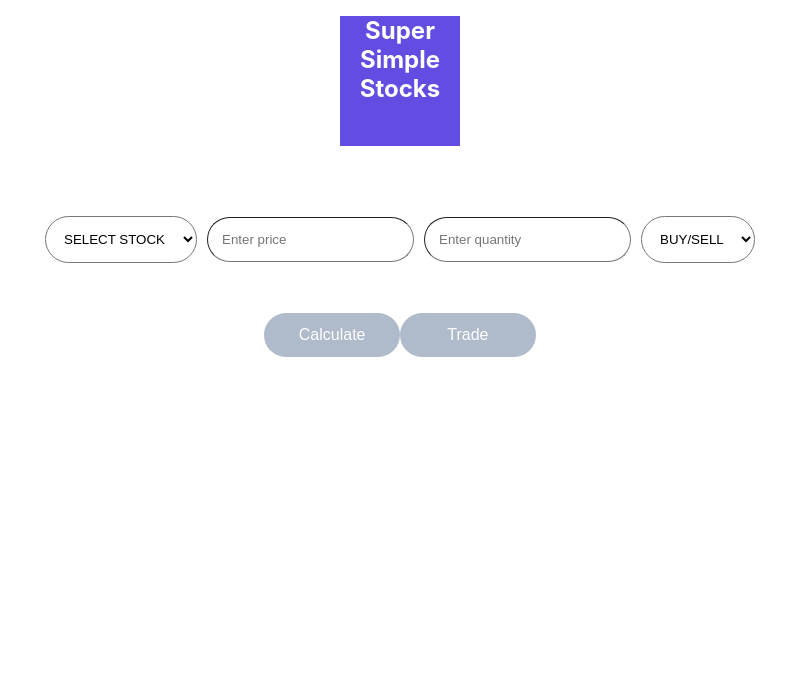
Test: App › trades and populates data
Expected: the button with test id "button-trade" is disabled, [400,313,536,357]
Select "TEA" in the dropdown with test id "stock-list" at (121, 239), box [45,216,197,263]
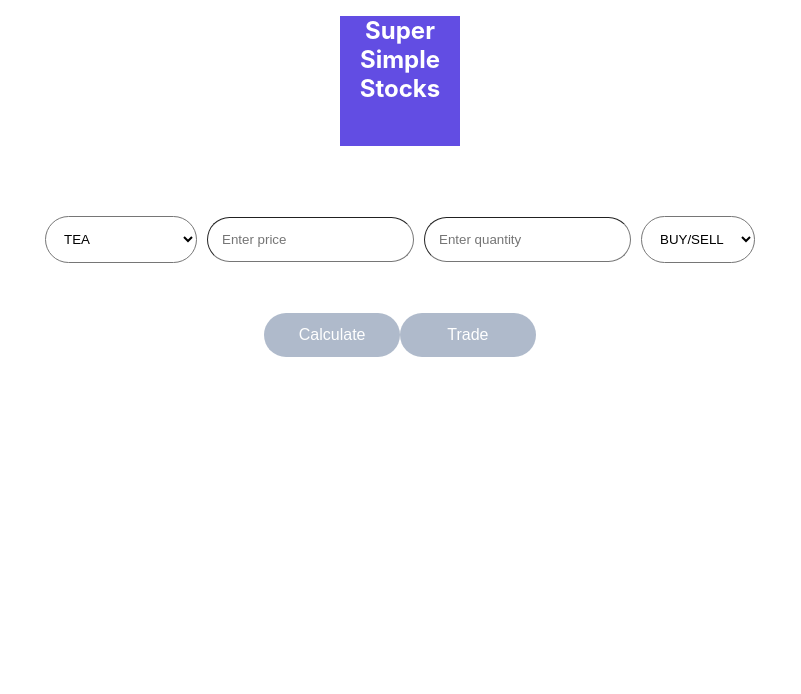
Type "100" into the number field with test id "input-price" at (310, 239), box [207,217,414,262]
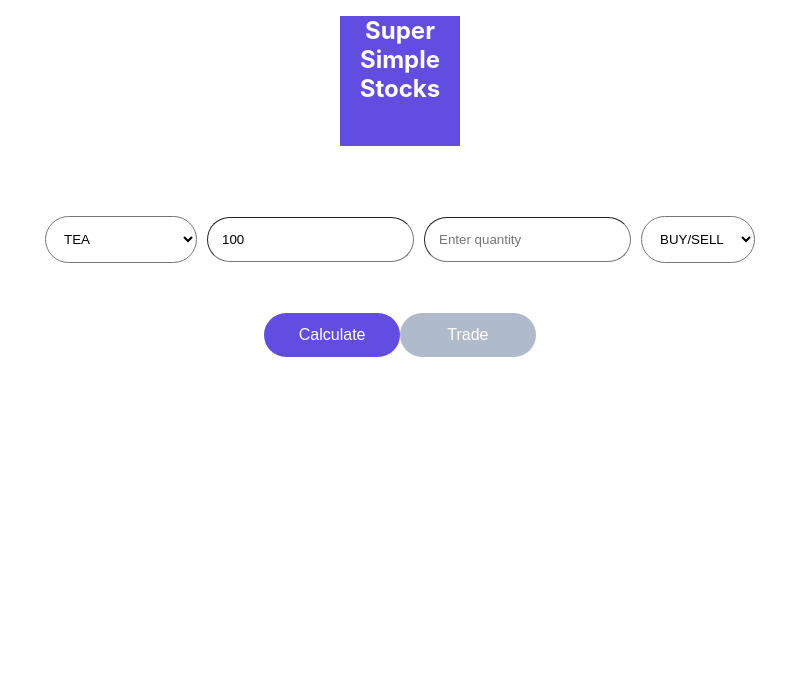
Type "100" into the number field with test id "input-quantity" at (528, 239), box [424,217,631,262]
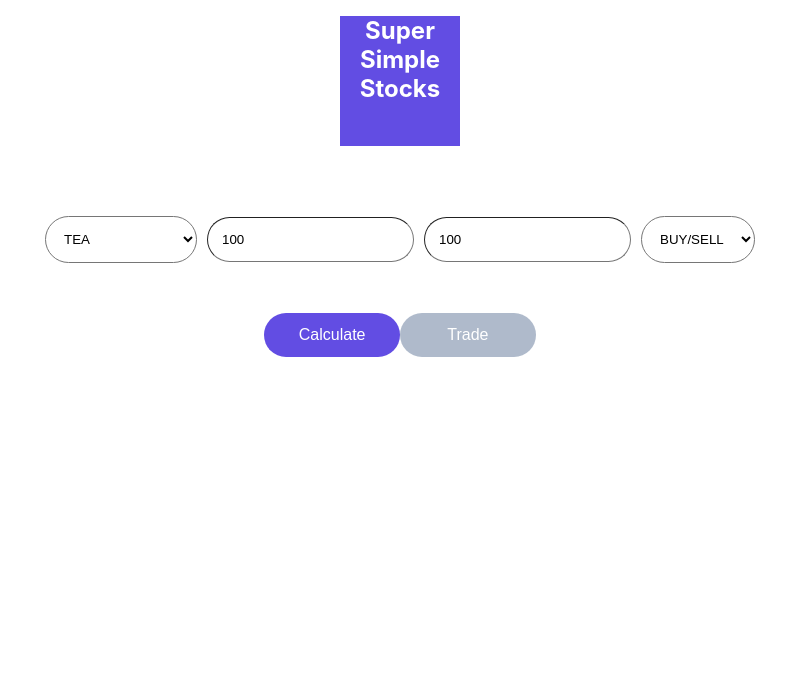
Select "BUY" in the dropdown with test id "type-list" at (698, 239), box [641,216,755,263]
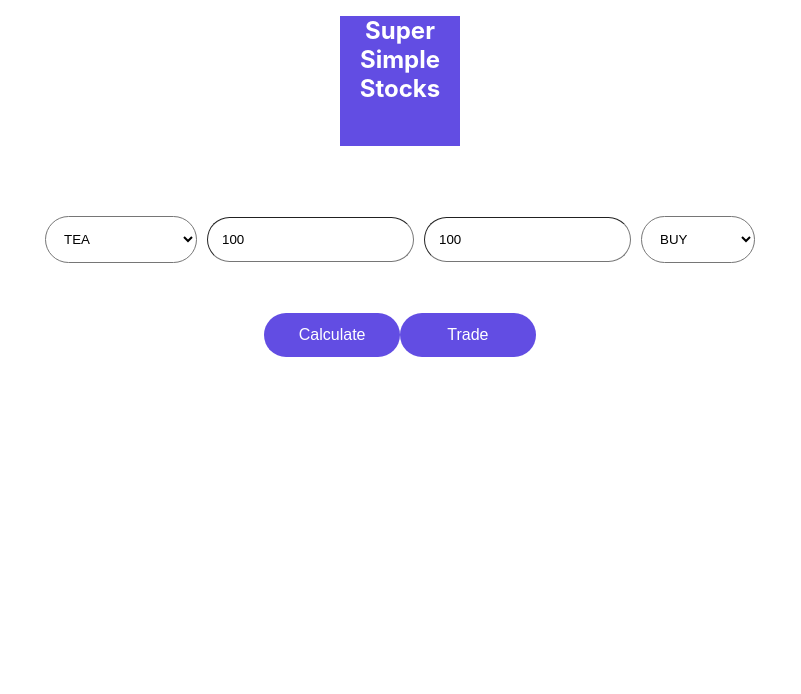
Now the button with test id "button-trade" is enabled
Click the button with test id "button-trade" at (468, 335), box [400,313,536,357]
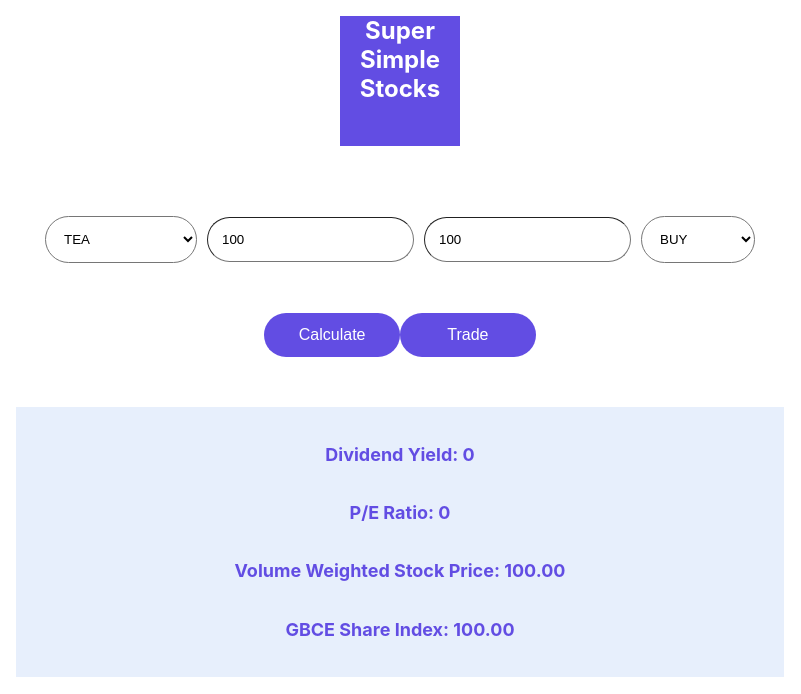
Now the text "Dividend Yield: 0" is shown, box [325,444,475,465]
Now the text "P/E Ratio: 0" is shown, box [350,502,450,523]
Now the text "Volume Weighted Stock Price: 100.00" is shown, box [234,560,566,581]
